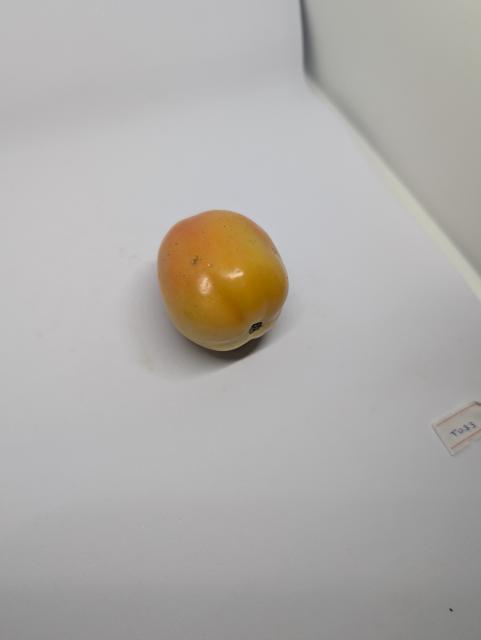turning: (153, 207, 293, 363)
